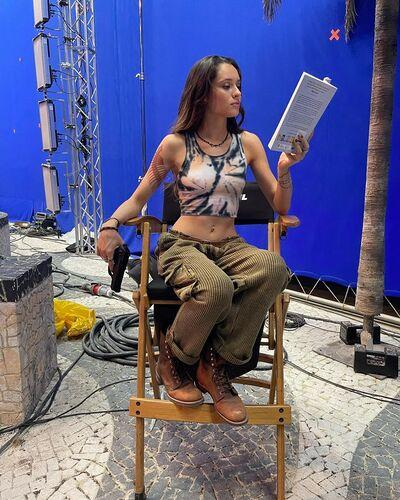Gun: (107, 244, 131, 294)
